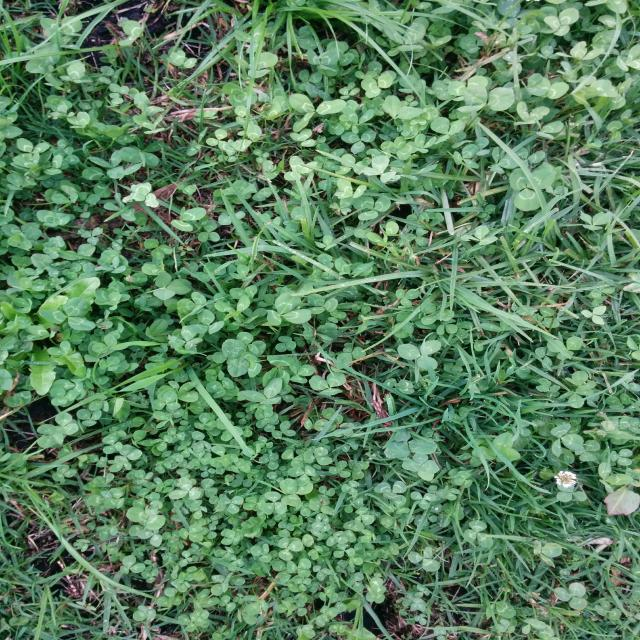Four Leaf Clover: (402, 453, 440, 481)
